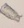microplastic: (1, 3, 22, 23)
